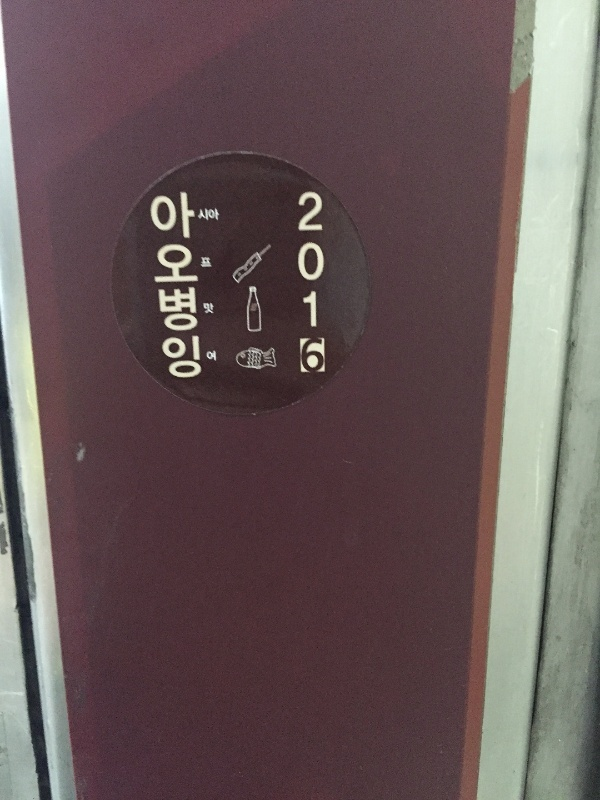text: (145, 188, 160, 388), (161, 188, 176, 388), (177, 188, 192, 388), (305, 185, 320, 382), (193, 188, 203, 388), (296, 185, 304, 382), (321, 185, 326, 382), (209, 207, 221, 225), (197, 207, 208, 225), (209, 348, 218, 364), (209, 300, 215, 319), (201, 255, 208, 271), (203, 300, 208, 319), (209, 255, 213, 271), (206, 348, 208, 364)
